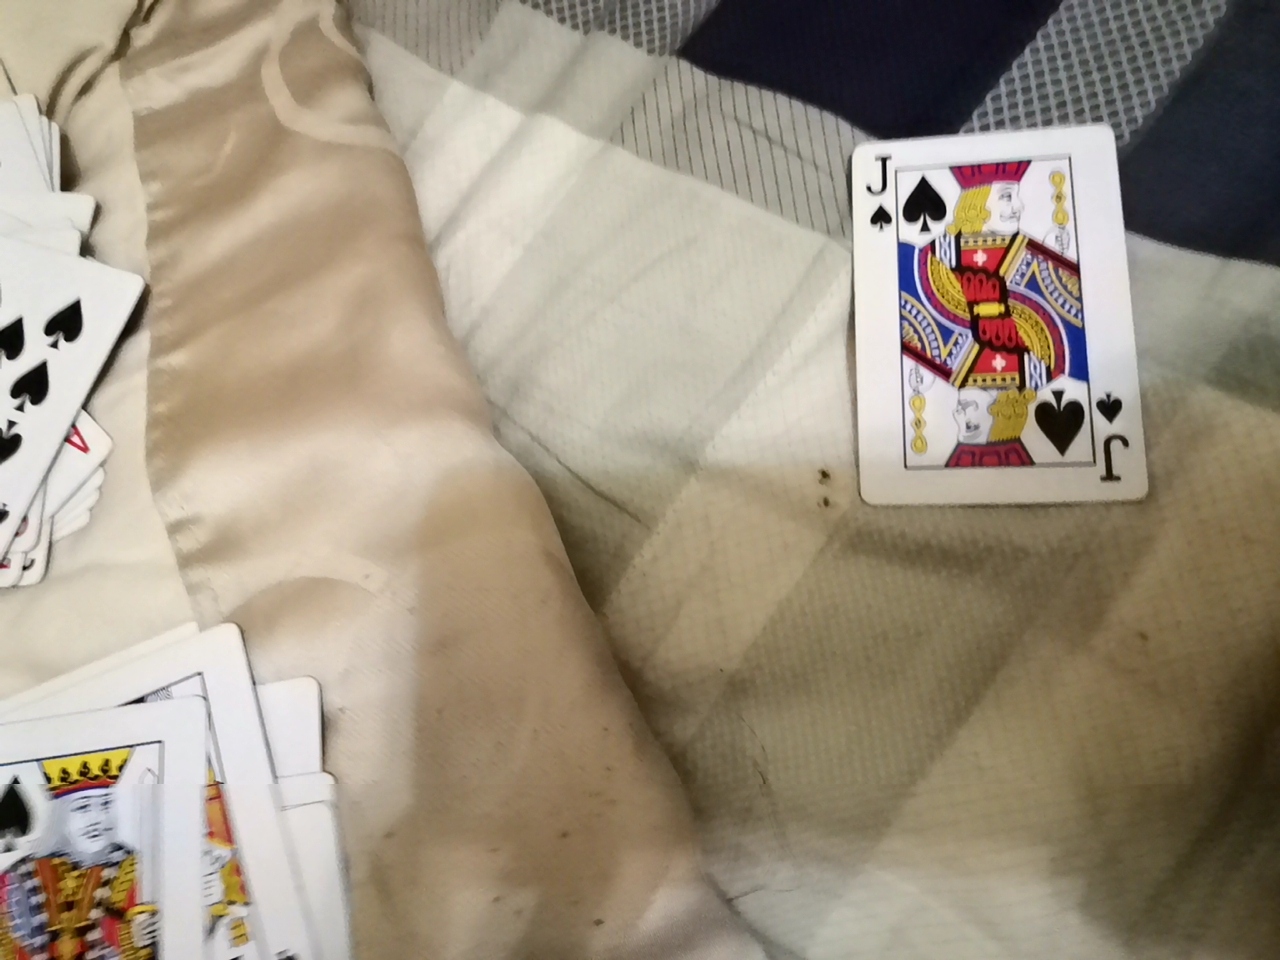ht j: (838, 109, 1167, 525)
